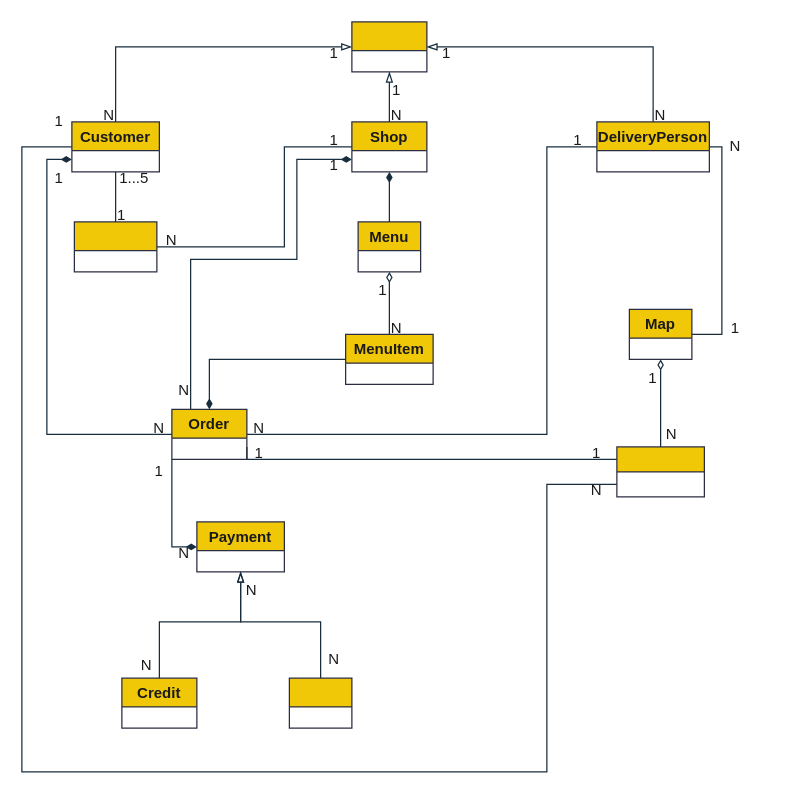
Image size: 795x795. Some labels were removed from this diagram. The box of each missing label's shape, as (x1, y1, x2, y2) in pixels:
Address: (616, 446, 704, 497)
Cash: (288, 677, 352, 728)
Room: (73, 221, 157, 272)
User: (351, 21, 427, 72)
